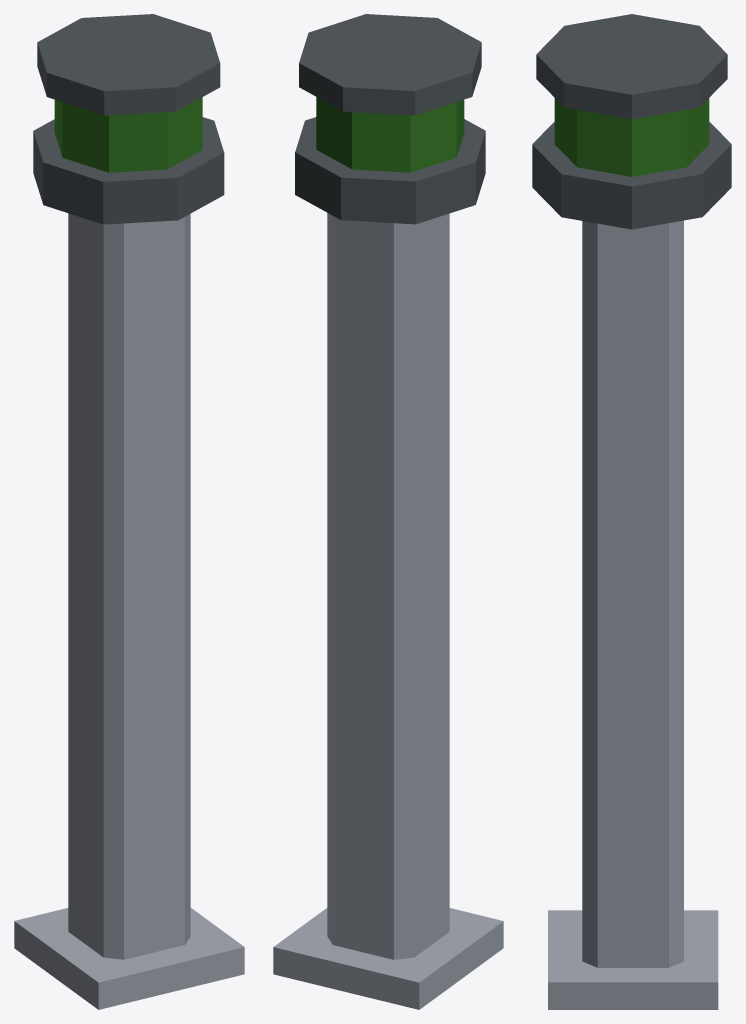
Rendered from SM_Prop_Market_Checkout_Light_01.obj.
3 renders of one model, left to right at view 1: azimuth 30°, elevation 25°; view 2: azimuth 150°, elevation 25°; view 3: azimuth 270°, elevation 25°, orthographic.
Parts seen in each view (by area): view 1: SM_Prop_Market_Checkout_Light_01_0; view 2: SM_Prop_Market_Checkout_Light_01_0; view 3: SM_Prop_Market_Checkout_Light_01_0.
Part boxes in pixels (x1,y1,x2,y2): SM_Prop_Market_Checkout_Light_01_0: (14,14,244,1009); SM_Prop_Market_Checkout_Light_01_0: (273,14,503,1009); SM_Prop_Market_Checkout_Light_01_0: (532,14,731,1009).
Bounding box in the file's own units: 0.1375 × 0.6985 × 0.1375.
Materials: 1 (1 with a texture image).
